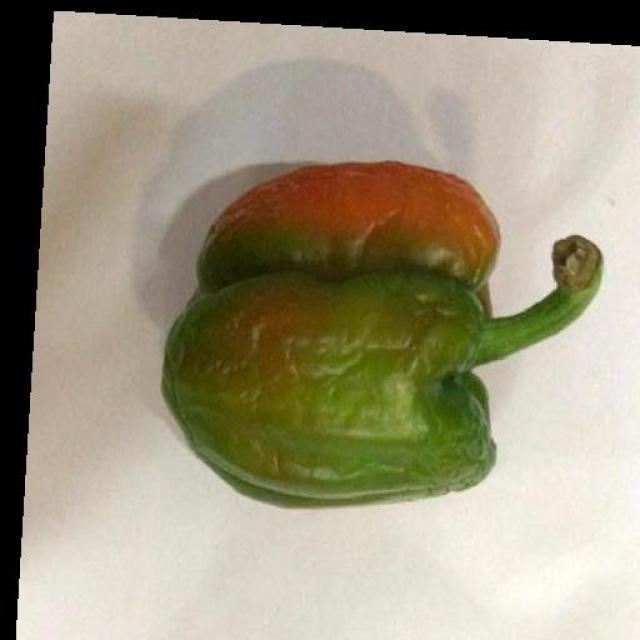Stale_Capsicum: (213, 165, 590, 544)
